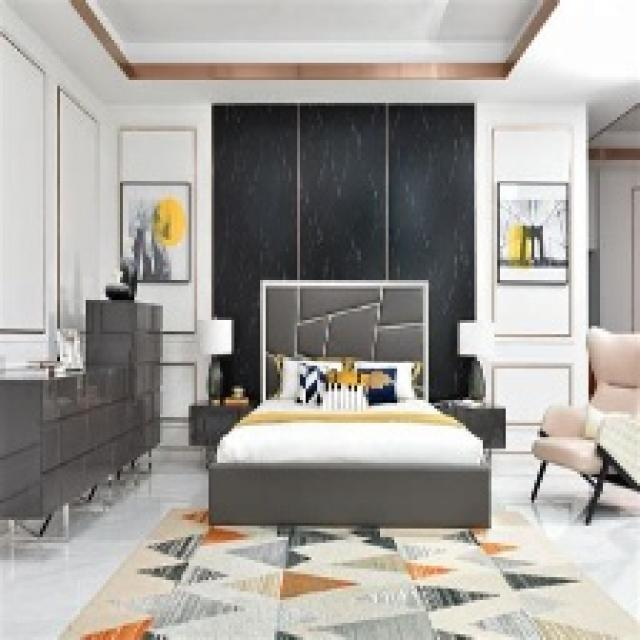Bed: (206, 277, 488, 537)
